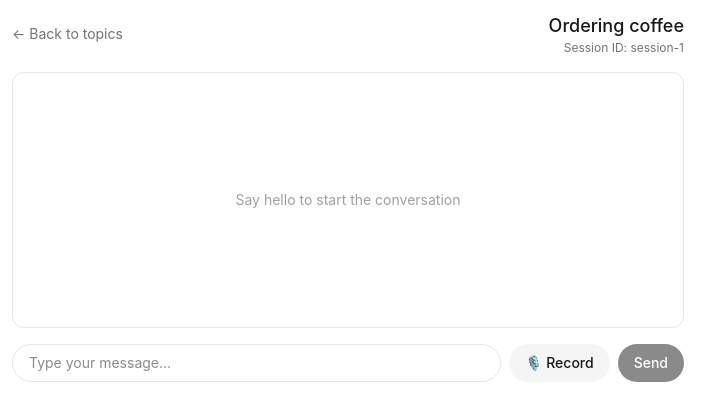
ChatRoom › shows a play button for a tutor reply with audio and toggles playback on click
Type "Hello there" into the field labelled "message" at (257, 363), box [12,344,502,382]
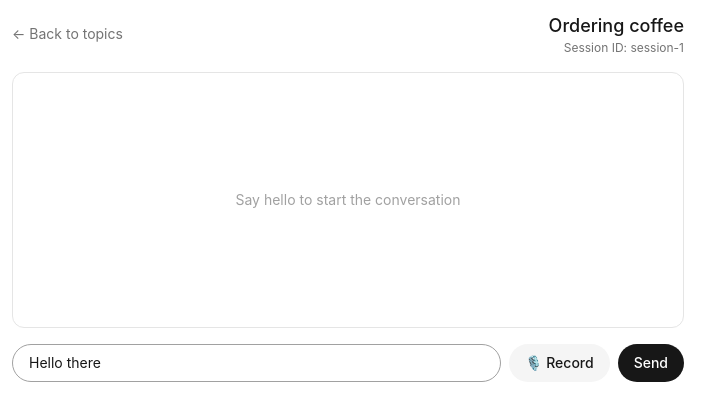
Click the button "Send" at (651, 363), box [618,344,684,382]
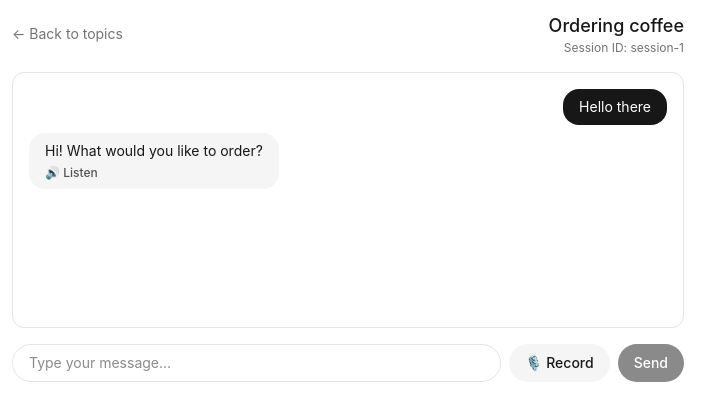
Click the button "🔊 Listen" at (71, 173), box [45,165,98,181]
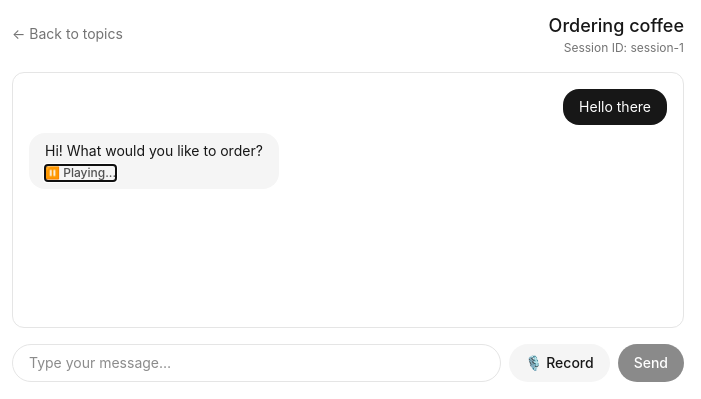
expect the button "⏸️ Playing..." is shown: met
Click the button "⏸️ Playing..." at (80, 173), box [45,165,116,181]
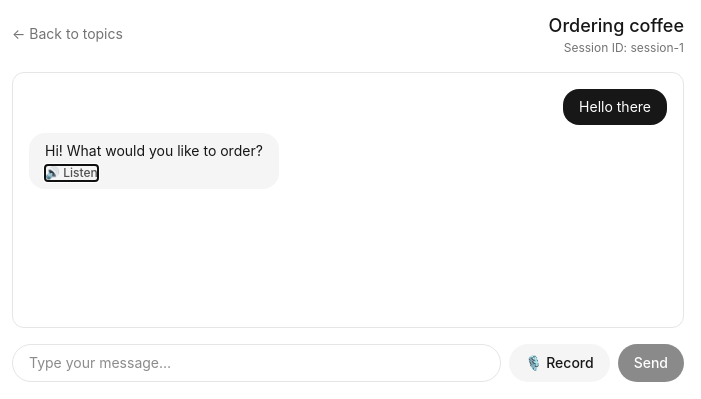
expect the button "🔊 Listen" is shown: met, box [45,165,98,181]
